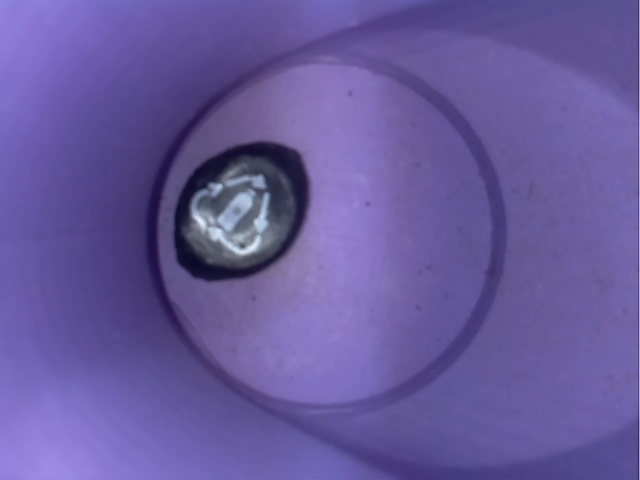bouchon: (160, 138, 334, 286)
